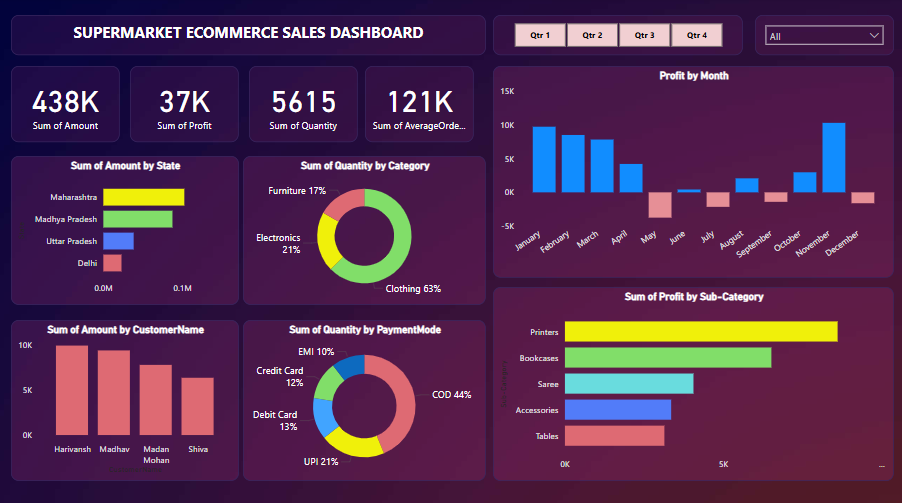

What the dashboard file says about the page in this screenshot:
{"tool":"powerbi","page":{"name":"Page 1","canvas":[1280,720],"ordinal":0},"visuals":[{"type":"textbox","box":[18.4,24.1,673.2,56.7],"z":0},{"type":"columnChart","title":"Profit by Month","fields":{"Y":["Details.Profit"],"Category":["Orders.Order Date.Variation.Date Hierarchy.Month"]},"box":[701.6,96.4,568.3,300.5],"z":1000},{"type":"barChart","fields":{"Category":["Details.Sub-Category"],"Y":["Details.Profit"]},"box":[701.6,409.6,568.3,275],"z":2000},{"type":"donutChart","fields":{"Category":["Details.Category"],"Y":["Details.Quantity"]},"box":[347.2,223.9,344.4,211.2],"z":3000},{"type":"donutChart","fields":{"Y":["Details.Quantity"],"Category":["Details.PaymentMode"]},"box":[347.2,456.4,344.4,228.2],"z":4000},{"type":"card","fields":{"Values":["Details.Amount"]},"box":[18.4,96.4,154.5,107.7],"z":5000},{"type":"card","fields":{"Values":["Details.Profit"]},"box":[187.1,96.4,154.5,107.7],"z":6000},{"type":"card","fields":{"Values":["Details.Quantity"]},"box":[355.7,96.4,154.5,107.7],"z":7000},{"type":"card","fields":{"Values":["Details.AverageOrderValue"]},"box":[520.2,96.4,154.5,107.7],"z":8000},{"type":"barChart","fields":{"Category":["Orders.State"],"Y":["Details.Amount"]},"box":[18.4,223.9,323.1,211.2],"z":9000},{"type":"columnChart","fields":{"Category":["Orders.CustomerName"],"Y":["Details.Amount"]},"box":[18.4,456.4,323.1,228.2],"z":10000},{"type":"slicer","fields":{"Values":["Orders.Order Date.Variation.Date Hierarchy.Quarter"]},"box":[701.6,24.1,354.3,56.7],"z":10001},{"type":"slicer","fields":{"Values":["Orders.State"]},"box":[1072.9,24.1,197,56.7],"z":10002}]}

Visuals, with their boxes in screenshot pixels (x1, y1, x2, y2), scaled from the page's 1280x720 canvas onto the 902x503 screenshot:
textbox: left=13, top=17, right=487, bottom=56
"Profit by Month" columnChart: left=494, top=67, right=895, bottom=277
barChart - Details.Sub-Category x Details.Profit: left=494, top=286, right=895, bottom=478
donutChart - Details.Category x Details.Quantity: left=245, top=156, right=487, bottom=304
donutChart - Details.Quantity x Details.PaymentMode: left=245, top=319, right=487, bottom=478
card - Details.Amount: left=13, top=67, right=122, bottom=143
card - Details.Profit: left=132, top=67, right=241, bottom=143
card - Details.Quantity: left=251, top=67, right=360, bottom=143
card - Details.AverageOrderValue: left=367, top=67, right=475, bottom=143
barChart - Orders.State x Details.Amount: left=13, top=156, right=241, bottom=304
columnChart - Orders.CustomerName x Details.Amount: left=13, top=319, right=241, bottom=478
slicer - Orders.Order Date.Variation.Date Hierarchy.Quarter: left=494, top=17, right=744, bottom=56
slicer - Orders.State: left=756, top=17, right=895, bottom=56
